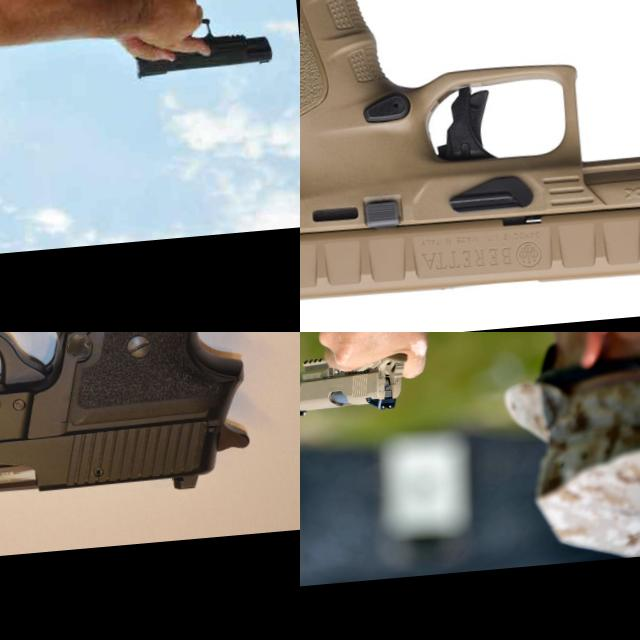handgun: (300, 0, 640, 332), (0, 332, 267, 531), (126, 11, 274, 81), (300, 346, 417, 421)
